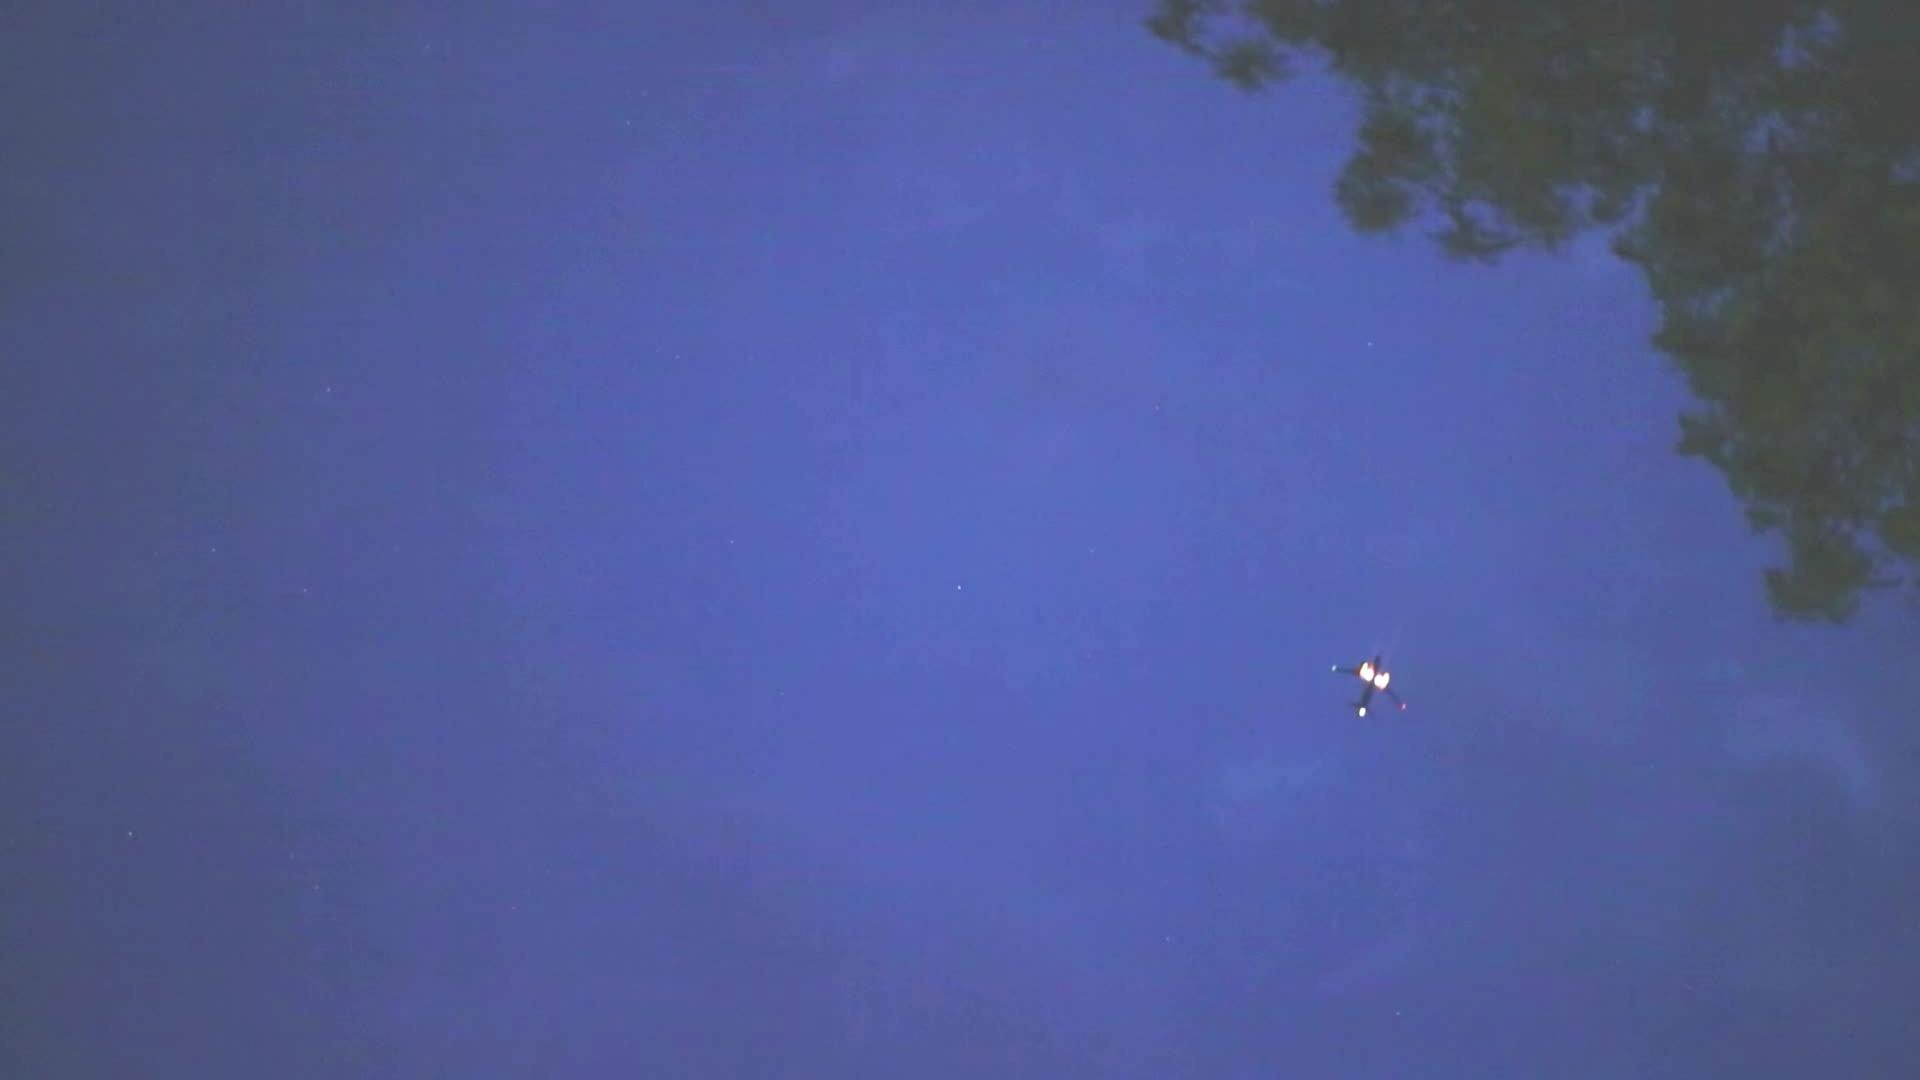Plane: (1307, 640, 1437, 737)
